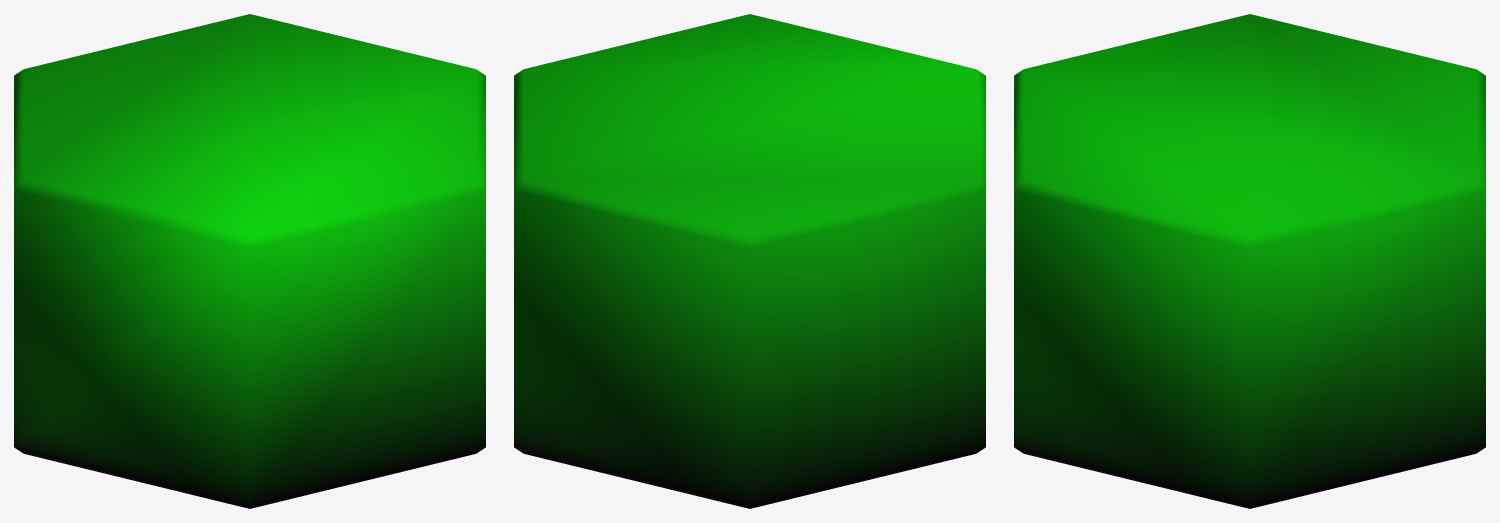
File: SM_RockHexic_Piece01.fbx
3 renders of one model, left to right at view 1: azimuth 30°, elevation 25°; view 2: azimuth 150°, elevation 25°; view 3: azimuth 270°, elevation 25°, orthographic.
Visible parts, largest first — view 1: SM_RockHexic_Piece01; view 2: SM_RockHexic_Piece01; view 3: SM_RockHexic_Piece01.
Boxes of the visible parts, box(x1,y1,x2,y2) form: SM_RockHexic_Piece01: box(14, 14, 485, 508); SM_RockHexic_Piece01: box(514, 14, 985, 508); SM_RockHexic_Piece01: box(1014, 14, 1485, 508).
Size of the model in its own units: 360 by 312 by 200.
